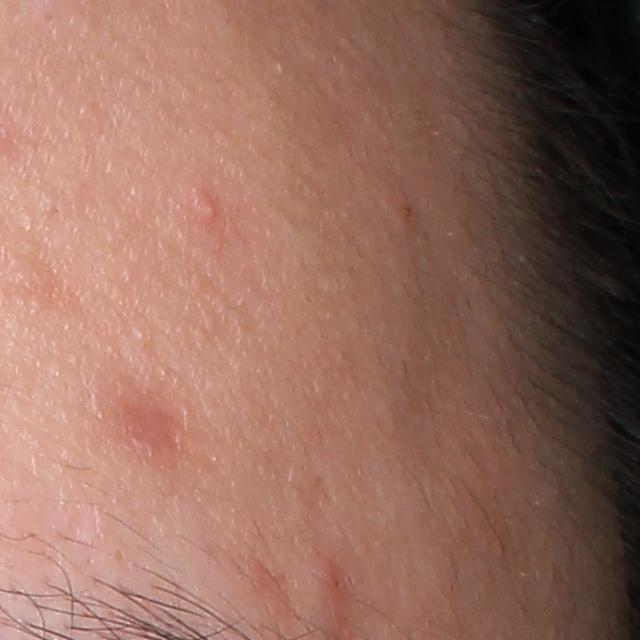papule: (196, 194, 223, 230)
